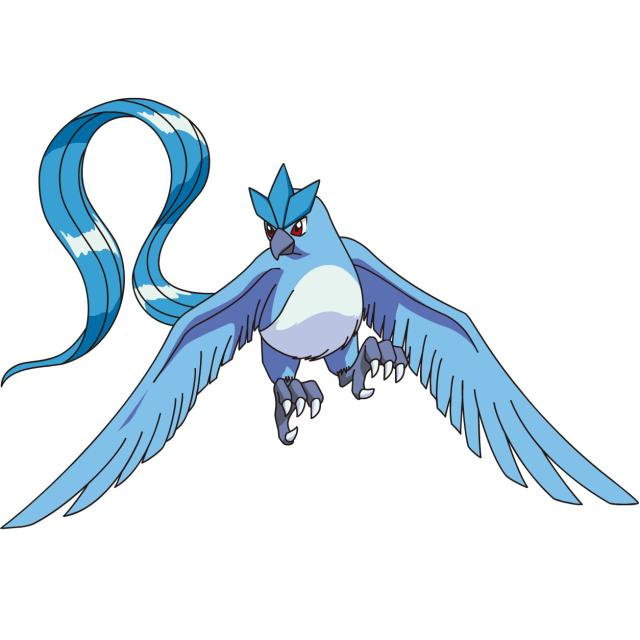Articuno: (0, 106, 628, 576)
